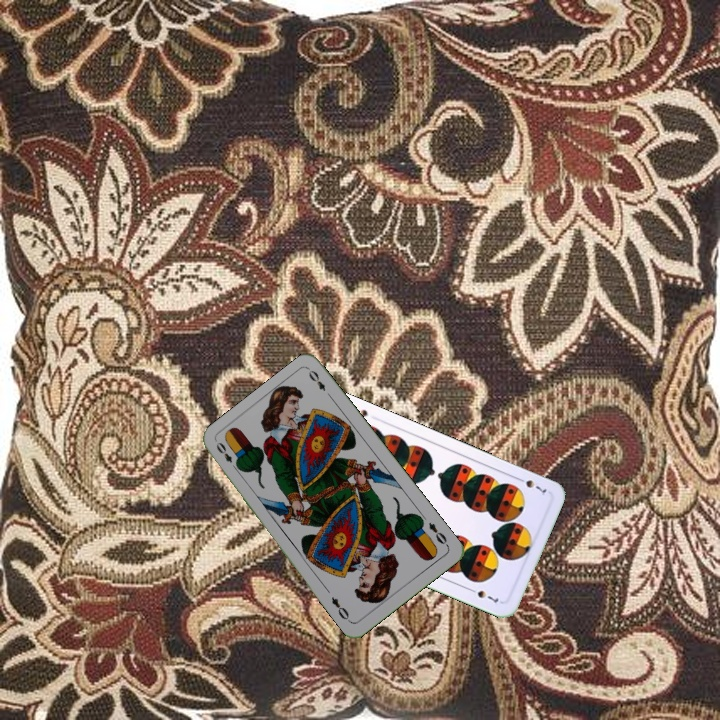EO: (212, 438, 242, 474), (424, 518, 451, 549)
S7: (512, 473, 549, 498)
